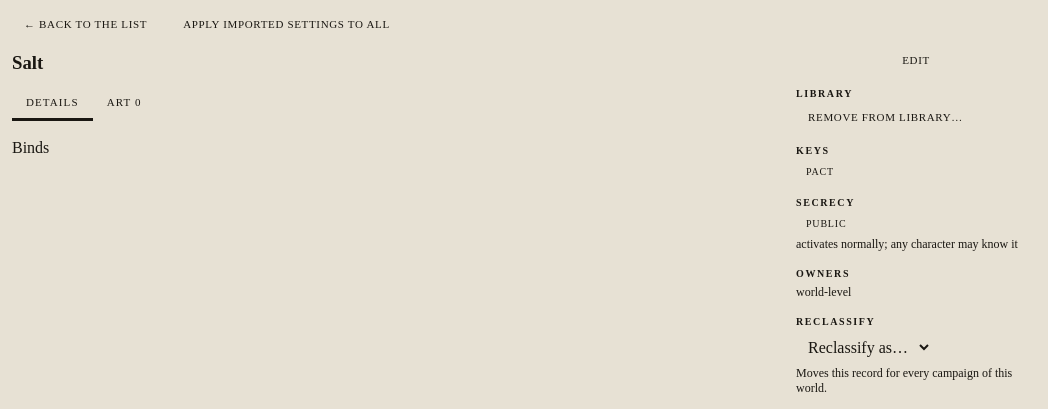
Test: adopt-all over a viewed record applies and re-reads it
This screenshot has width=1048, height=409.
Expected: the button "Edit" is shown, [796, 48, 1036, 72]
Click the button "Apply imported settings to all" at (286, 24), box [171, 12, 402, 36]
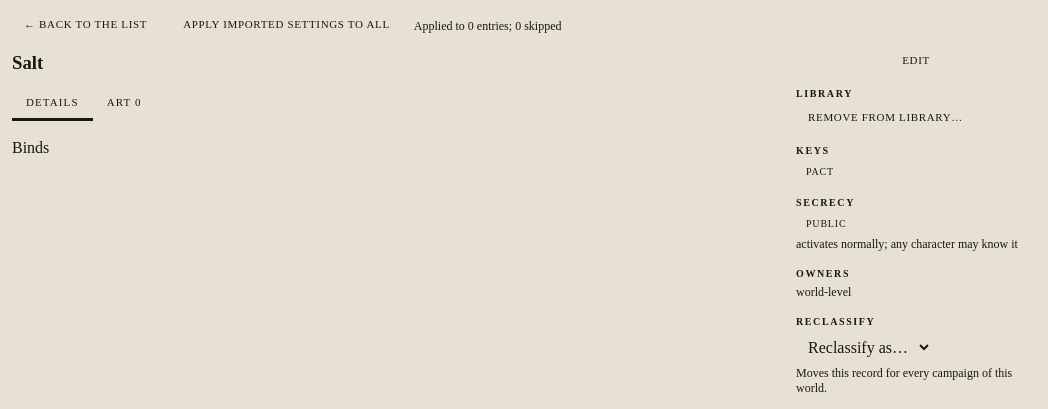
Expected: the text "Applied to 0 entries; 0 skipped" is shown, [414, 18, 562, 34]
